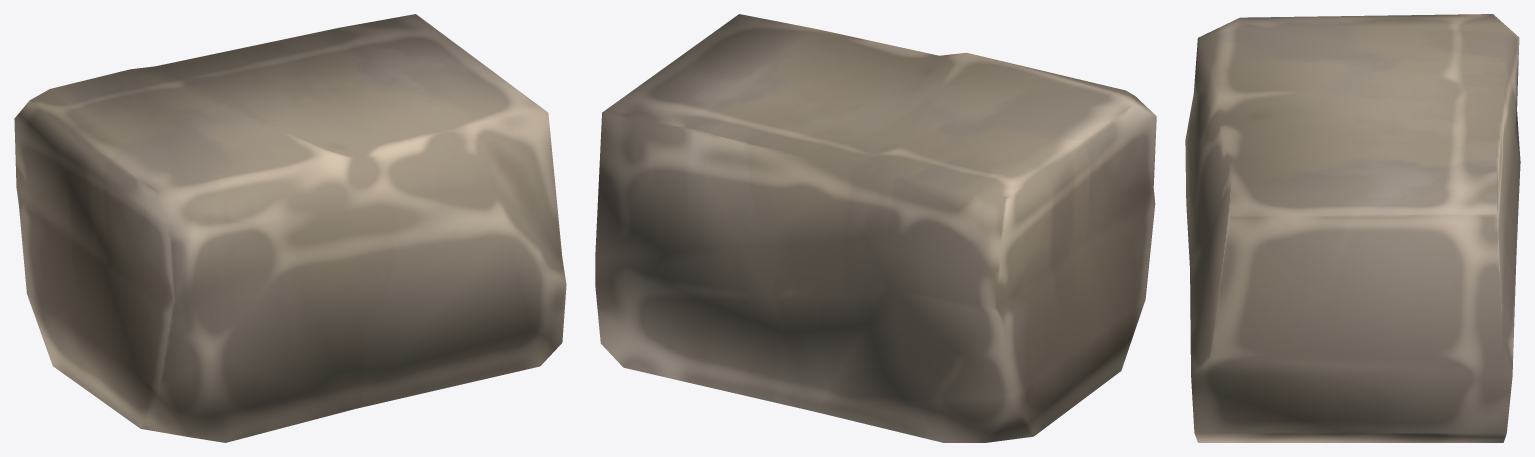
Rendered from prop_brick1.glb.
The picture shows the model from 3 angles, left to right: view 1: azimuth 30°, elevation 25°; view 2: azimuth 150°, elevation 25°; view 3: azimuth 270°, elevation 25°; orthographic projection. The views are drawn at different scales.
Visible parts, largest first — view 1: Prop_Brick1; view 2: Prop_Brick1; view 3: Prop_Brick1.
Part boxes in pixels (x1,y1,x2,y2): Prop_Brick1: [14, 14, 566, 442]; Prop_Brick1: [595, 14, 1156, 442]; Prop_Brick1: [1185, 14, 1520, 442].
Size of the model in its own units: 0.3456 by 0.208 by 0.2502.
1 material, 1 textured.
